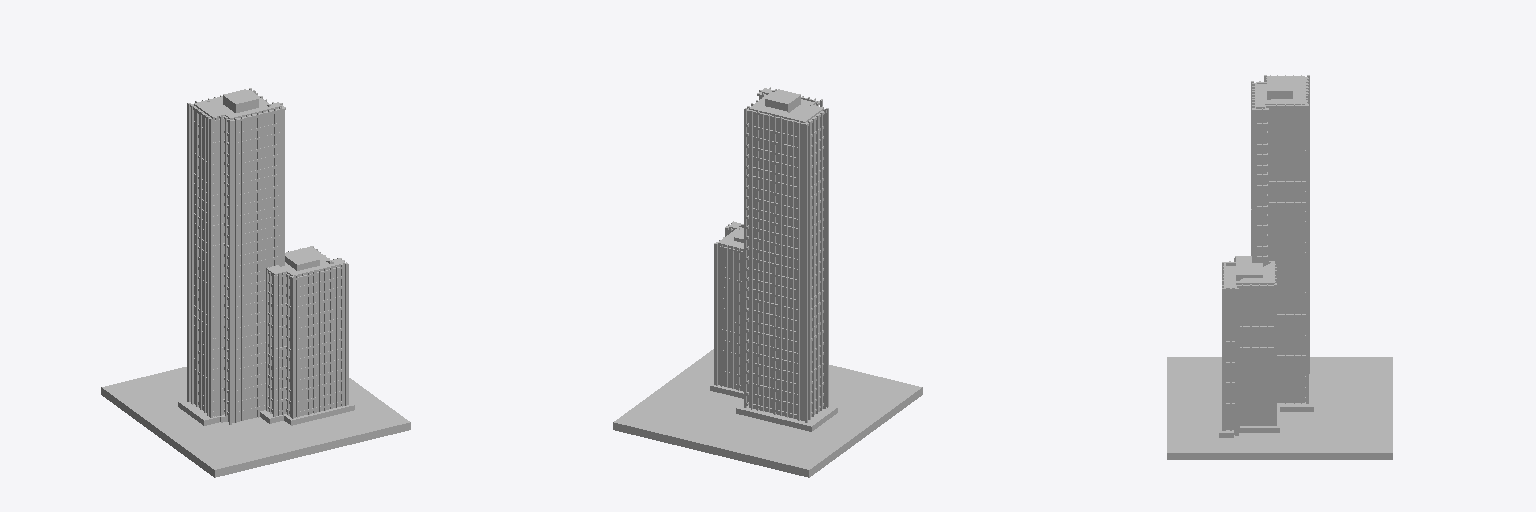
File: building2.obj
3 renders of one model, left to right at view 1: azimuth 30°, elevation 25°; view 2: azimuth 150°, elevation 25°; view 3: azimuth 270°, elevation 25°, orthographic.
Parts seen in each view (by area): view 1: pPlane1, pasted__pasted__pasted__pasted__pasted__pasted__pCube3 pasted__p, pasted__pasted__pasted__pasted__pasted__pasted__pasted__pasted__, group34 pasted__pasted__pasted__pasted__pasted__pasted__pasted__, pasted__pasted__pasted__pasted__pCube2 pasted__pasted__pasted__g, group15_pasted__group14_pasted__pasted__group13_pasted__pasted__, group34_pasted__group23_pasted__pasted__group22_pasted__pasted__, group34_pasted__group13_pasted__pasted__group12_pasted__pasted__, group7 pasted__pasted__pCube2 pasted__group6, group32 pasted__pasted__pCube2 pasted__group6, pasted__pasted__pasted__pCube2 pasted__pasted__group6 pasted__gr, pasted__pCube2 group6 (+12 smaller); view 2: pPlane1, group32 pasted__pasted__pasted__pasted__pasted__pasted__pasted__, pasted__pasted__pasted__pasted__pasted__pasted__pasted__pasted__, group34 pasted__group32 pasted__pasted__pasted__pasted__pasted__, pasted__pasted__pasted__pasted__pasted__pasted__pasted__pCube2 p, pasted__pCube1 group78, pasted__pasted__pasted__pasted__pCube2 pasted__pasted__pasted__g, group32 pasted__pasted__pCube2 pasted__group6, group32 pasted__pasted__pasted__pasted__pasted__pCube2 pasted__p, group7 pasted__pasted__pCube2 pasted__group6, group32 pasted__pasted__pasted__pCube2 pasted__pasted__group6 pa, group32 pasted__pasted__pasted__pasted__pCube2 pasted__pasted__p (+8 smaller); view 3: pPlane1, pasted__pasted__pasted__pasted__pasted__pasted__pasted__pCube3 p, pasted__pasted__pasted__pasted__pasted__pasted__pasted__pasted__, pasted__pasted__pasted__group15_pasted__group14_pasted__pasted__, pasted__pasted__pasted__pasted__pasted__pCube2 pasted__pasted__p, pasted__polySurface15 group118, group32 pasted__pasted__pasted__pCube2 pasted__pasted__group6 pa, group83 pasted__pasted__pasted__pasted__pasted__pasted__pasted__, group106_pasted__group34_pasted__pasted__group4_pasted__pasted__, pasted__pasted__pasted__pasted__pasted__pasted__pasted__pCube1, pasted__pasted__pasted__pasted__pasted__pasted__pCube2 pasted__p, pasted__pasted__pCube1 pasted__group34 group79.
Part boxes in pixels (bbox=[...]): pPlane1: bbox=[101, 367, 410, 477]; pasted__pasted__pasted__pasted__pasted__pasted__pCube3 pasted__p: bbox=[194, 111, 284, 422]; pasted__pasted__pasted__pasted__pasted__pasted__pasted__pasted__: bbox=[194, 96, 344, 421]; group34 pasted__pasted__pasted__pasted__pasted__pasted__pasted__: bbox=[294, 267, 344, 417]; pasted__pasted__pasted__pasted__pCube2 pasted__pasted__pasted__g: bbox=[191, 105, 252, 421]; group15_pasted__group14_pasted__pasted__group13_pasted__pasted__: bbox=[237, 123, 279, 414]; group34_pasted__group23_pasted__pasted__group22_pasted__pasted__: bbox=[296, 264, 342, 417]; group34_pasted__group13_pasted__pasted__group12_pasted__pasted__: bbox=[298, 276, 341, 413]; group7 pasted__pasted__pCube2 pasted__group6: bbox=[209, 118, 212, 417]; group32 pasted__pasted__pCube2 pasted__group6: bbox=[187, 103, 190, 401]; pasted__pasted__pasted__pCube2 pasted__pasted__group6 pasted__gr: bbox=[207, 116, 293, 418]; pasted__pCube2 group6: bbox=[229, 120, 231, 424]; pPlane1: bbox=[613, 349, 922, 477]; group32 pasted__pasted__pasted__pasted__pasted__pasted__pasted__: bbox=[749, 113, 804, 420]; pasted__pasted__pasted__pasted__pasted__pasted__pasted__pasted__: bbox=[719, 100, 823, 416]; group34 pasted__group32 pasted__pasted__pasted__pasted__pasted__: bbox=[718, 245, 742, 390]; pasted__pasted__pasted__pasted__pasted__pasted__pasted__pCube2 p: bbox=[714, 112, 821, 410]; pasted__pCube1 group78: bbox=[736, 403, 837, 431]; pasted__pasted__pasted__pasted__pCube2 pasted__pasted__pasted__g: bbox=[808, 97, 818, 419]; group32 pasted__pasted__pCube2 pasted__group6: bbox=[805, 123, 807, 422]; group32 pasted__pasted__pasted__pasted__pasted__pCube2 pasted__p: bbox=[780, 117, 794, 418]; group7 pasted__pasted__pCube2 pasted__group6: bbox=[825, 108, 828, 407]; group32 pasted__pasted__pasted__pCube2 pasted__pasted__group6 pa: bbox=[744, 108, 746, 407]; group32 pasted__pasted__pasted__pasted__pCube2 pasted__pasted__p: bbox=[757, 111, 788, 417]; pPlane1: bbox=[1167, 357, 1392, 459]; pasted__pasted__pasted__pasted__pasted__pasted__pasted__pCube3 p: bbox=[1269, 108, 1304, 402]; pasted__pasted__pasted__pasted__pasted__pasted__pasted__pasted__: bbox=[1229, 75, 1293, 430]; pasted__pasted__pasted__group15_pasted__group14_pasted__pasted__: bbox=[1269, 119, 1305, 400]; pasted__pasted__pasted__pasted__pasted__pCube2 pasted__pasted__p: bbox=[1222, 104, 1301, 430]; pasted__polySurface15 group118: bbox=[1237, 285, 1273, 422]; group32 pasted__pasted__pasted__pCube2 pasted__pasted__group6 pa: bbox=[1306, 104, 1308, 403]; group83 pasted__pasted__pasted__pasted__pasted__pasted__pasted__: bbox=[1226, 293, 1234, 434]; group106_pasted__group34_pasted__pasted__group4_pasted__pasted__: bbox=[1224, 256, 1274, 289]; pasted__pasted__pasted__pasted__pasted__pasted__pasted__pCube1: bbox=[1256, 76, 1304, 108]; pasted__pasted__pasted__pasted__pasted__pasted__pCube2 pasted__p: bbox=[1234, 258, 1238, 435]; pasted__pasted__pCube1 pasted__group34 group79: bbox=[1219, 402, 1279, 437].
Size of the model in its own units: 42.87 by 68.13 by 42.87.